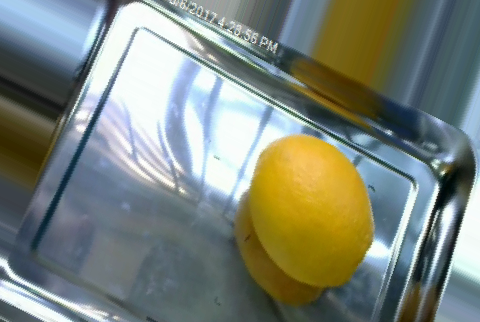Orange: (250, 134, 375, 288)
